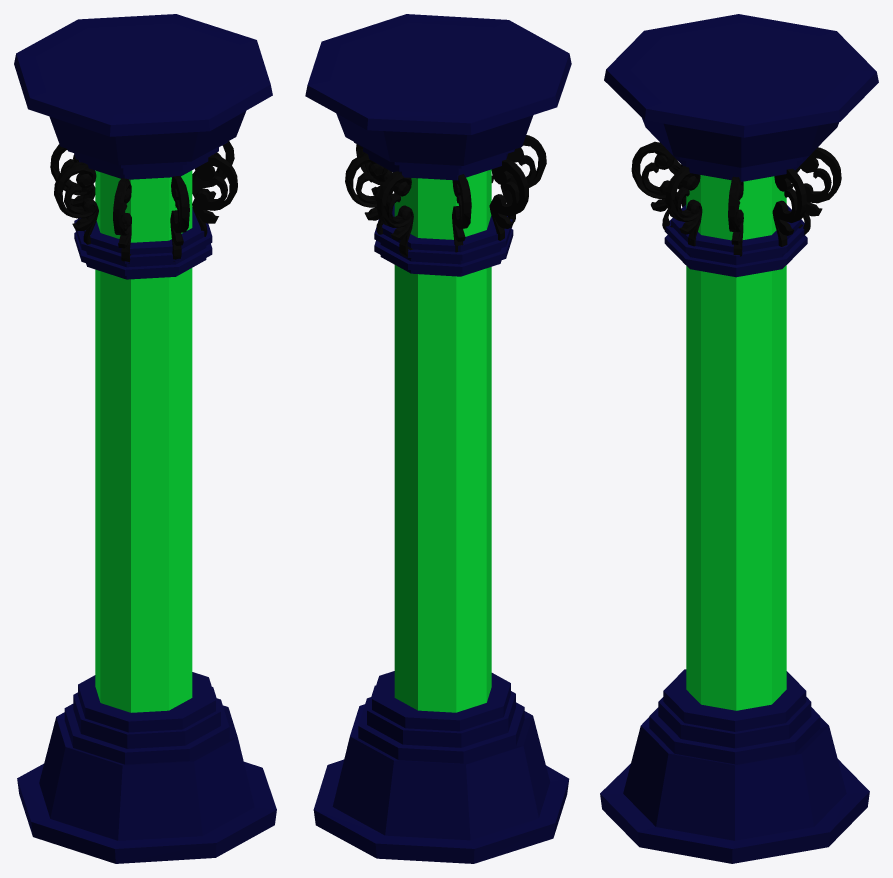
Rendered from Pillar.FBX.
The picture shows the model from 3 angles, left to right: view 1: azimuth 30°, elevation 25°; view 2: azimuth 150°, elevation 25°; view 3: azimuth 270°, elevation 25°; orthographic projection.
Visible parts, largest first — view 1: Lofi2; view 2: Lofi2; view 3: Lofi2.
Boxes of the visible parts, bbox=[...] form: Lofi2: bbox=[14, 14, 276, 863]; Lofi2: bbox=[305, 14, 571, 863]; Lofi2: bbox=[600, 14, 878, 863].
Size of the model in its own units: 7383 by 22368 by 7646.
